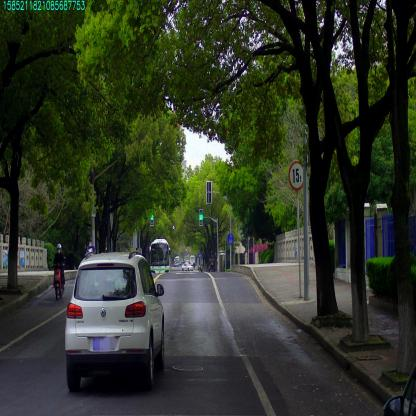traffic-light: (199, 209, 203, 225), (150, 209, 153, 226)
